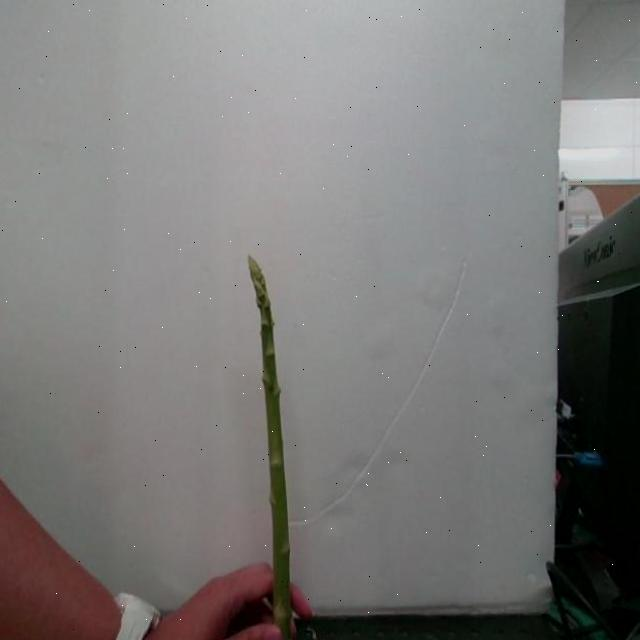aspargus: (248, 257, 297, 640)
